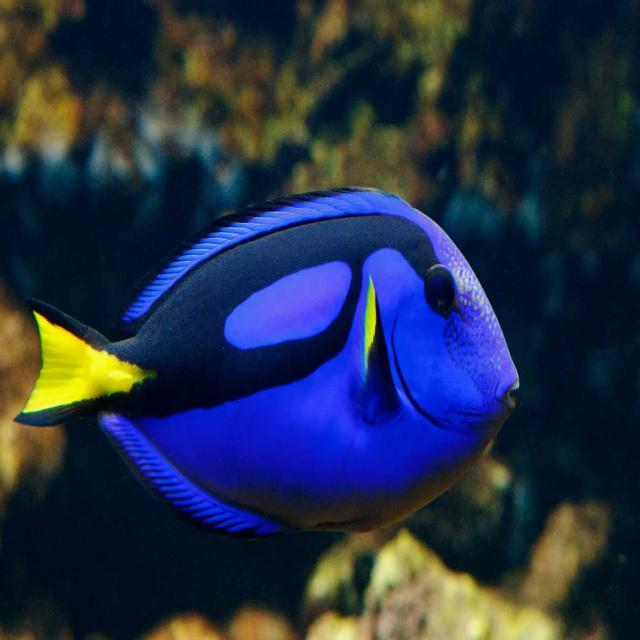BlueTang: (16, 186, 522, 541)
